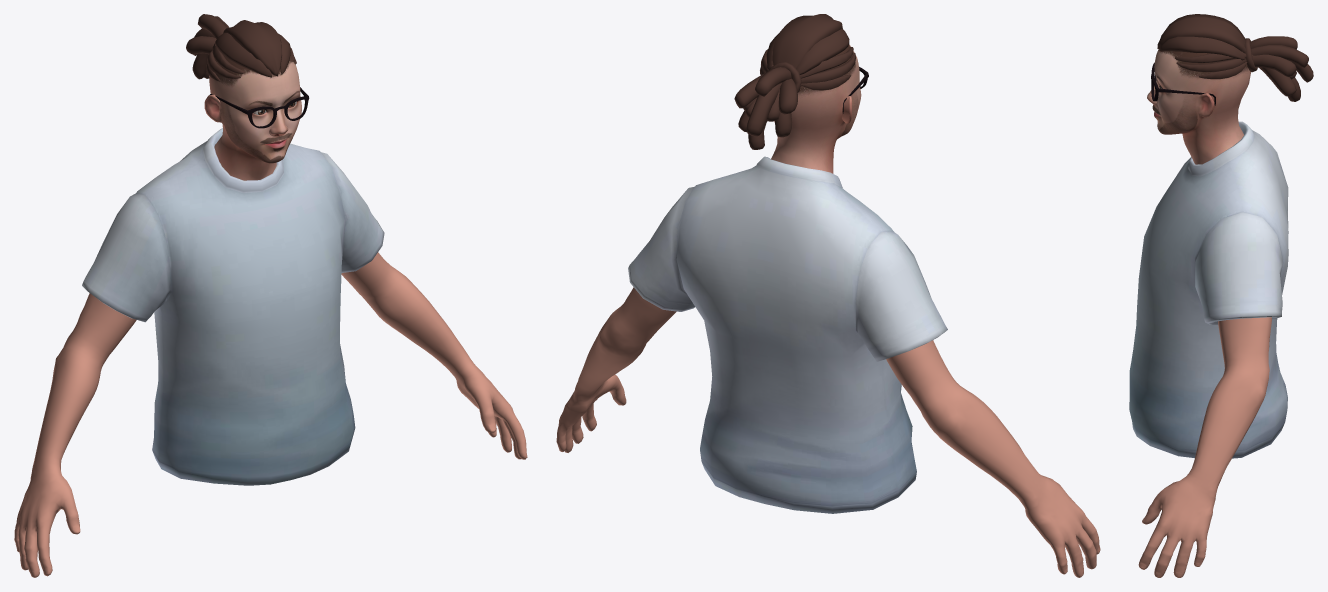
The model's file is asian_upper_new02.glb.
3 renders of one model, left to right at view 1: azimuth 30°, elevation 25°; view 2: azimuth 150°, elevation 25°; view 3: azimuth 270°, elevation 25°, orthographic. The views are drawn at different scales.
Parts seen in each view (by area): view 1: Wolf3D_Outfit_Top, Wolf3D_Body, Wolf3D_Head, Wolf3D_Hair, Wolf3D_Glasses; view 2: Wolf3D_Outfit_Top, Wolf3D_Body, Wolf3D_Hair, Wolf3D_Head; view 3: Wolf3D_Outfit_Top, Wolf3D_Body, Wolf3D_Head, Wolf3D_Hair, Wolf3D_Glasses.
Boxes of the visible parts, x1,y1,x2,y2 form: Wolf3D_Outfit_Top: (82, 128, 384, 485); Wolf3D_Body: (14, 252, 527, 577); Wolf3D_Head: (204, 55, 301, 180); Wolf3D_Hair: (186, 14, 296, 81); Wolf3D_Glasses: (210, 87, 309, 128); Wolf3D_Outfit_Top: (628, 156, 947, 513); Wolf3D_Body: (556, 287, 1100, 577); Wolf3D_Hair: (734, 14, 855, 149); Wolf3D_Head: (771, 44, 861, 173); Wolf3D_Outfit_Top: (1129, 121, 1288, 458); Wolf3D_Body: (1138, 317, 1271, 577); Wolf3D_Head: (1147, 49, 1250, 164); Wolf3D_Hair: (1157, 14, 1313, 101); Wolf3D_Glasses: (1151, 63, 1215, 105).
Size of the model in its own units: 1.06 by 0.9747 by 0.3615.
7 materials, 7 textured.
